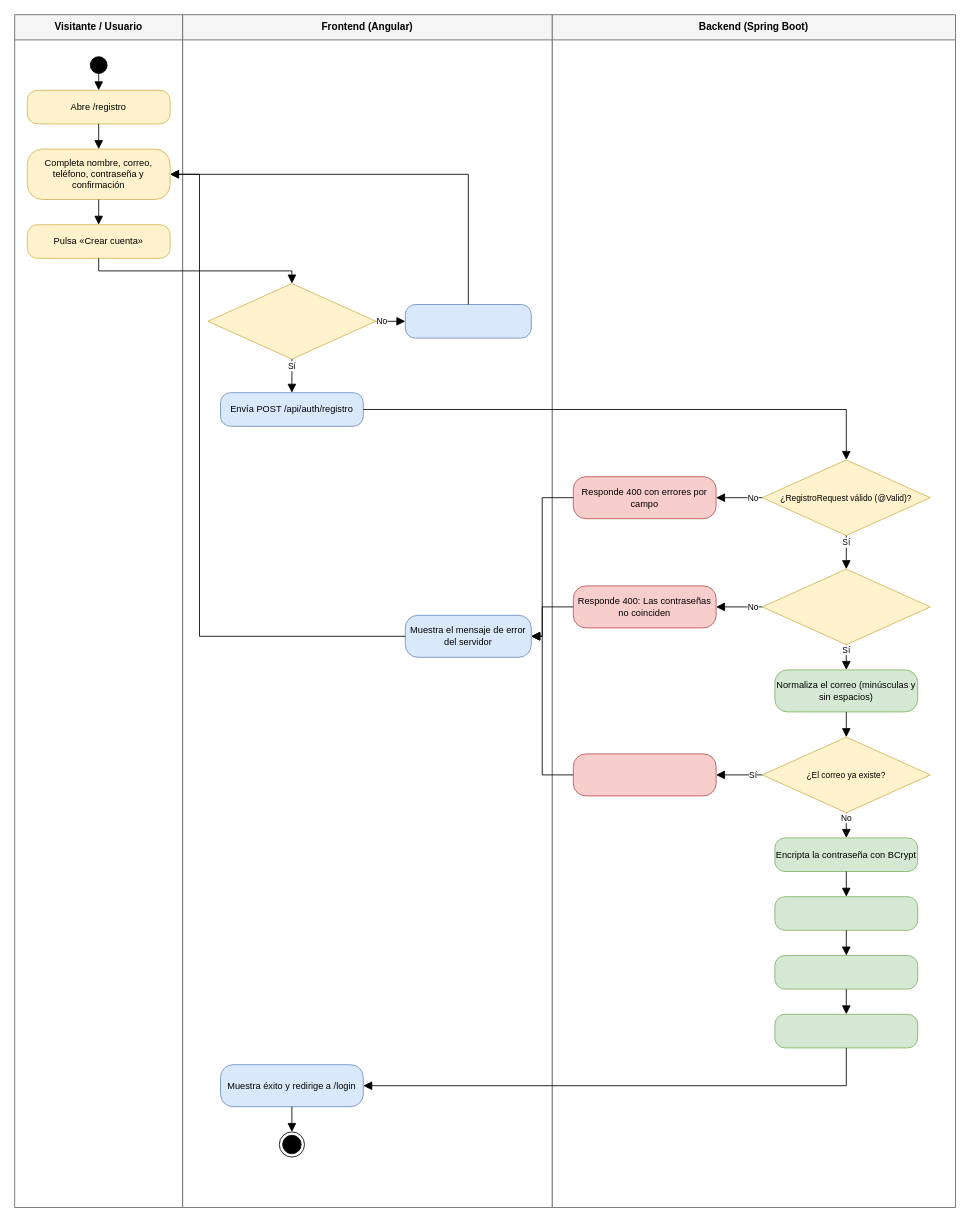
Some shapes in this 970 by 1222 pixel diagram are drawn without their labels. Each missing label, with the centre of its shape:
Crea el Usuario con rol EMISOR: the point at 846,913
Guarda el usuario en la base de datos: the point at 846,972
Muestra errores de campo: the point at 467,321
Responde 201 con UsuarioResponse: the point at 846,1030
Responde 409: El correo ya se encuentra registrado: the point at 644,774
¿Contraseña y confirmación coinciden?: the point at 845,606
¿Formulario válido en el cliente?: the point at 291,321
